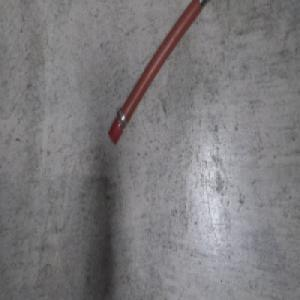Hose: (106, 0, 212, 147)
